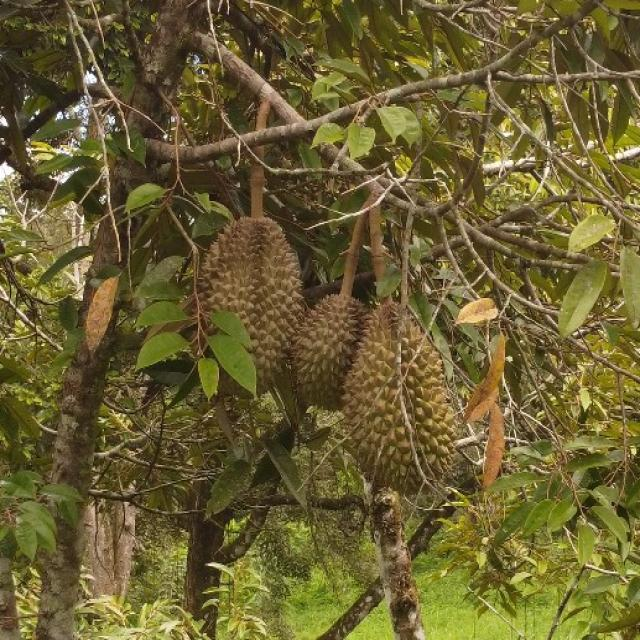mature: (343, 293, 457, 493), (188, 211, 303, 388), (292, 286, 375, 414)
